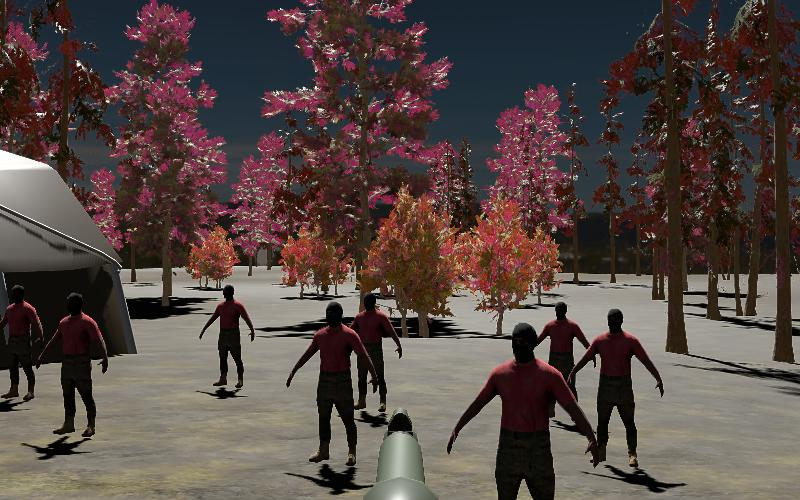Human: (444, 319, 600, 499), (568, 304, 667, 470), (285, 296, 379, 468), (37, 290, 111, 439), (526, 296, 598, 424), (339, 286, 405, 418), (197, 280, 257, 392), (0, 282, 45, 402)
